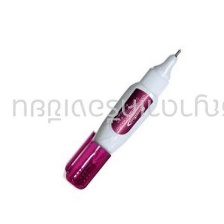correction_fluid: (61, 46, 184, 193)
